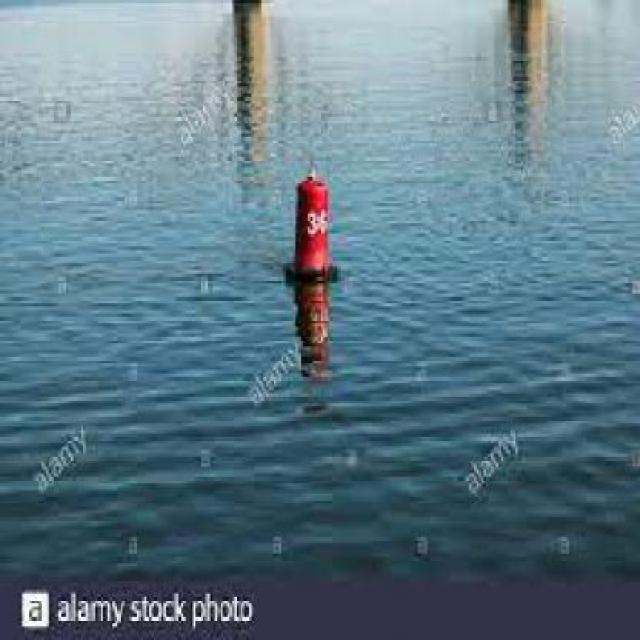Red Buoy: (298, 179, 329, 269)
